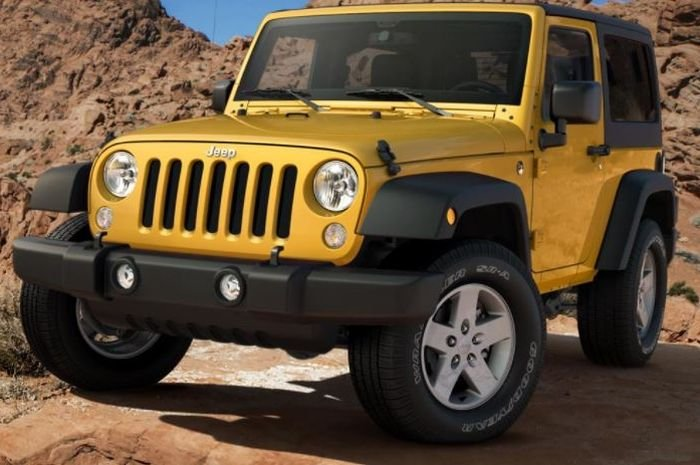mobil: (29, 2, 668, 438)
